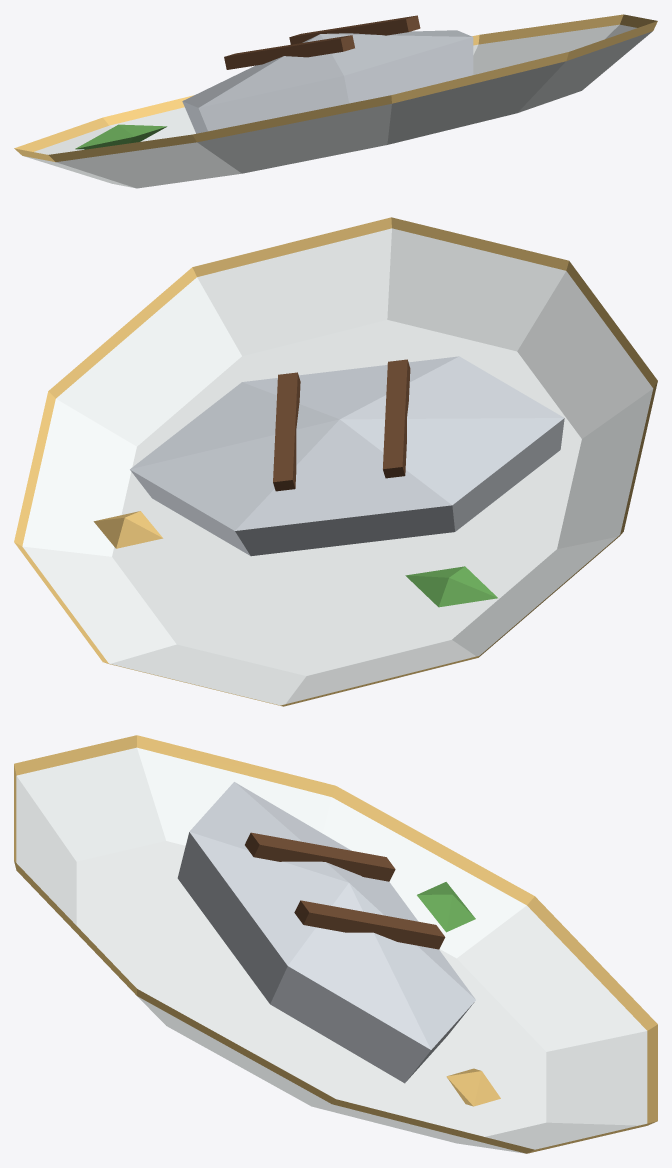
Rendered from Meal.obj.
3 renders of one model, top to bottom at view 1: azimuth 30°, elevation 25°; view 2: azimuth 150°, elevation 25°; view 3: azimuth 270°, elevation 25°, orthographic. The views are drawn at different scales.
Bounding box in the file's own units: 2.96 × 1.21 × 2.57.
